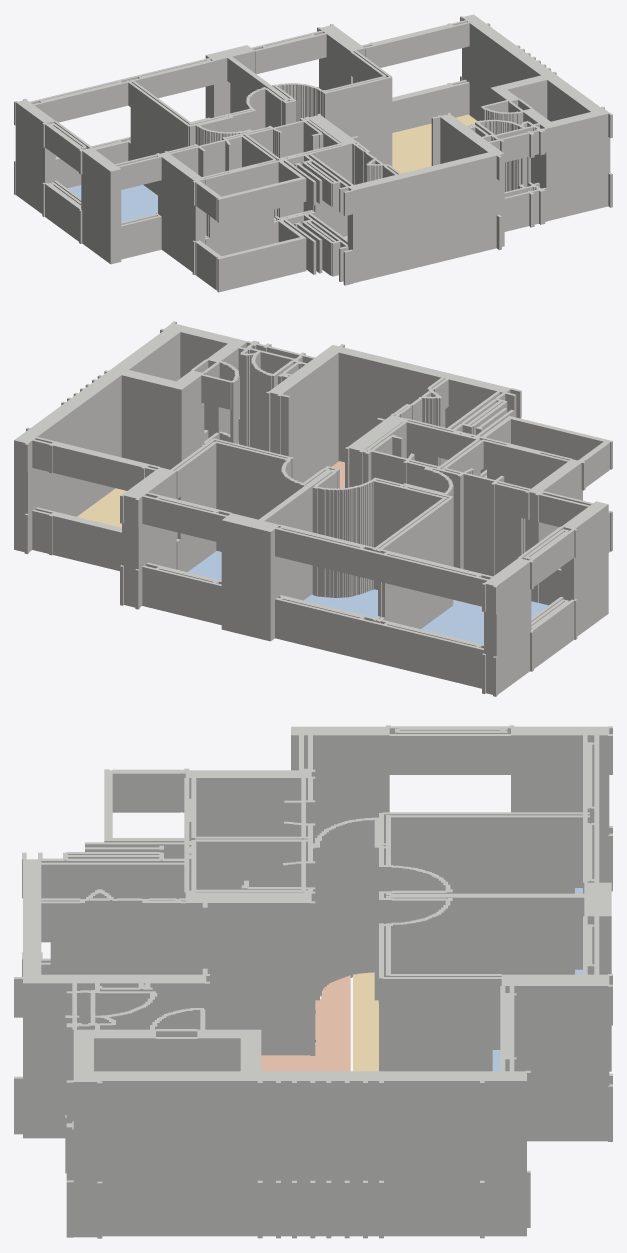
The picture shows the model from 3 angles, top to bottom: view 1: azimuth 30°, elevation 25°; view 2: azimuth 150°, elevation 25°; view 3: azimuth 270°, elevation 25°; orthographic projection. The views are drawn at different scales.
Parts seen in each view (by area): view 1: walls, room:living:5, room:bedroom:2; view 2: walls, room:bedroom:2, room:bedroom:0, room:living:5, room:bedroom:1; view 3: walls, room:kitchen:7, room:living:5.
Part boxes in pixels (box(x1,y1,x2,y2)): walls: box(14, 14, 612, 292); room:living:5: box(392, 114, 477, 173); room:bedroom:2: box(67, 185, 157, 222); walls: box(14, 321, 612, 696); room:bedroom:2: box(421, 600, 548, 644); room:bedroom:0: box(304, 589, 377, 617); room:living:5: box(77, 488, 126, 527); room:bedroom:1: box(188, 551, 221, 580); walls: box(14, 725, 612, 1238); room:kitchen:7: box(261, 975, 350, 1071); room:living:5: box(353, 972, 378, 1071).
Size of the model in its own units: 13.86 by 2.8 by 9.79.
